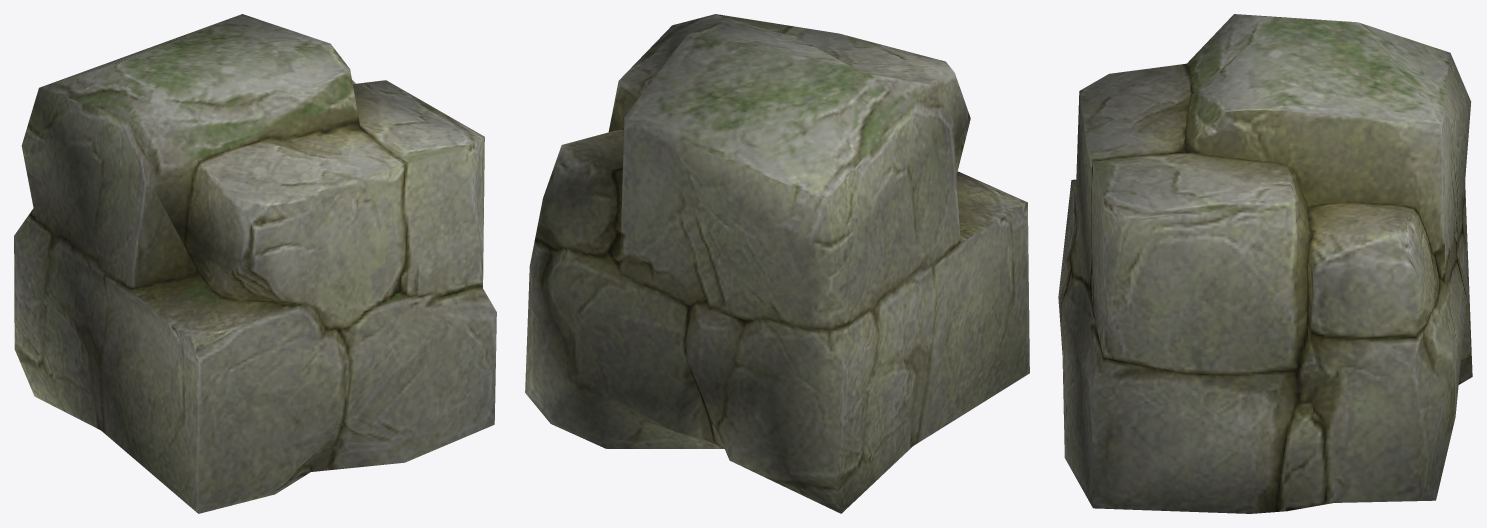
Rendered from GongYong_SuiShi_6.fbx.
The picture shows the model from 3 angles, left to right: view 1: azimuth 30°, elevation 25°; view 2: azimuth 150°, elevation 25°; view 3: azimuth 270°, elevation 25°; orthographic projection. The views are drawn at different scales.
Visible parts, largest first — view 1: GongYong_SuiShi_6; view 2: GongYong_SuiShi_6; view 3: GongYong_SuiShi_6.
Boxes of the visible parts, x1,y1,x2,y2 form: GongYong_SuiShi_6: (14, 14, 496, 513); GongYong_SuiShi_6: (525, 14, 1029, 513); GongYong_SuiShi_6: (1058, 14, 1472, 513).
Bounding box in the file's own units: 109 × 113 × 111.
